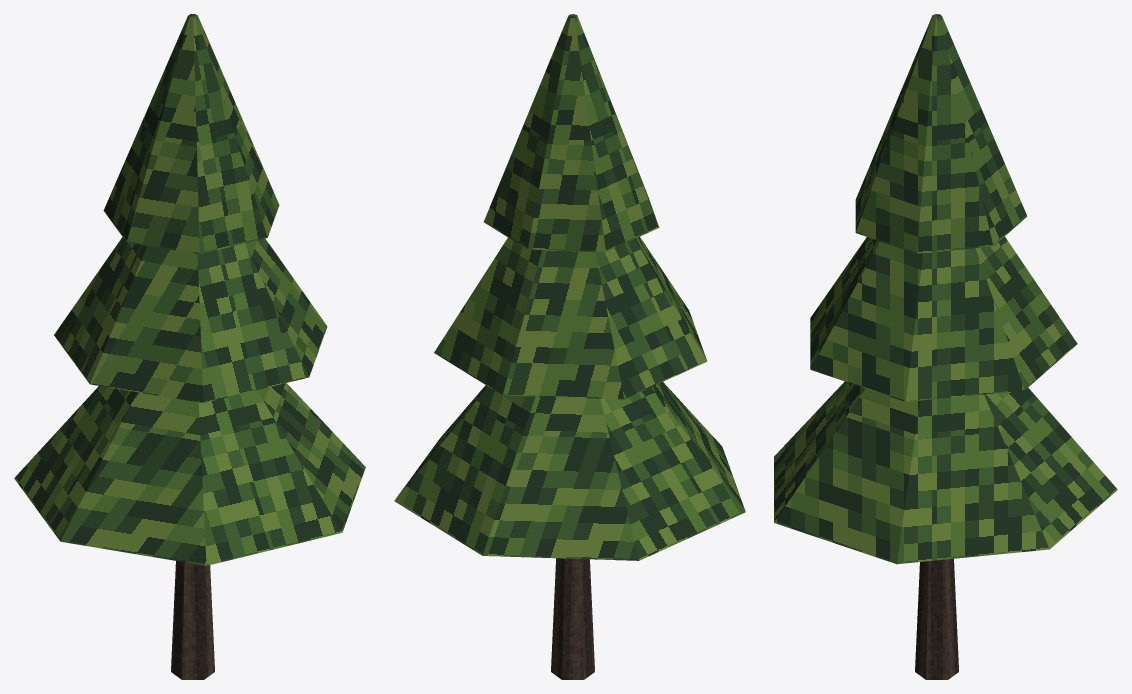
Rendered from env_tree_b.glb.
3 renders of one model, left to right at view 1: azimuth 30°, elevation 25°; view 2: azimuth 150°, elevation 25°; view 3: azimuth 270°, elevation 25°, orthographic.
Parts seen in each view (by area): view 1: env_tree_b; view 2: env_tree_b; view 3: env_tree_b.
Boxes of the visible parts, left/top/right/bottom form: env_tree_b: left=14, top=14, right=365, bottom=679; env_tree_b: left=394, top=14, right=745, bottom=679; env_tree_b: left=774, top=14, right=1117, bottom=679.
Bounding box in the file's own units: 3.51 × 7.2 × 3.42.
Materials: 2 (2 with a texture image).
